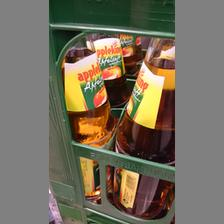Saft: (111, 36, 172, 218), (61, 30, 114, 198)
